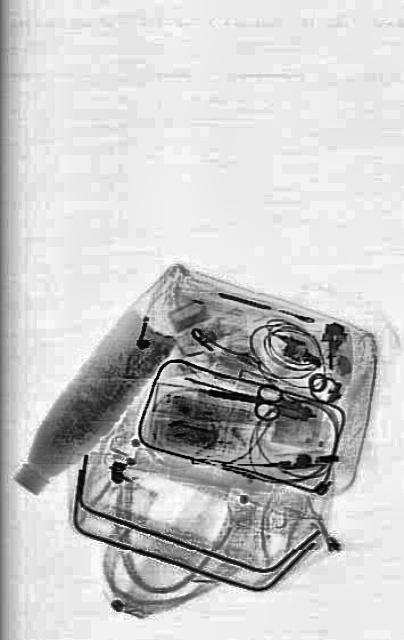Scissors: (206, 372, 282, 422)
